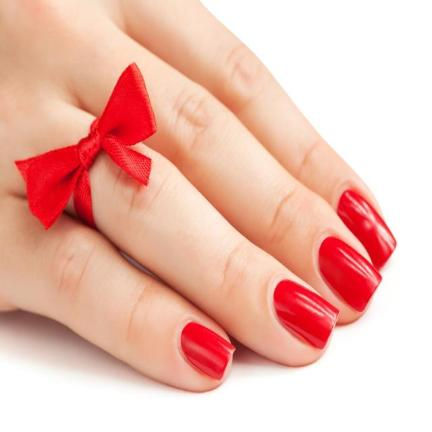Nail: (336, 188, 397, 272), (318, 236, 383, 312), (273, 279, 340, 349), (180, 322, 236, 381)
